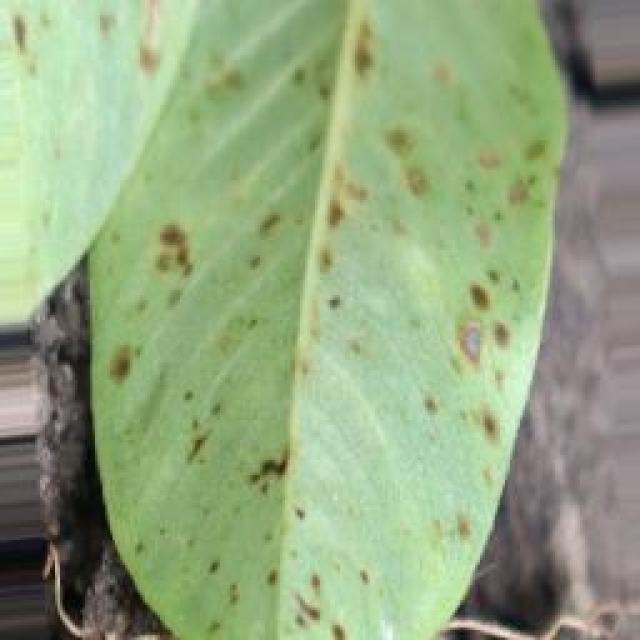Whitefly: (0, 0, 538, 631)
